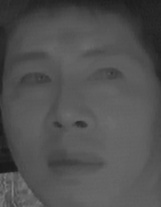eye: (15, 68, 54, 92), (84, 66, 126, 88)
mouth: (43, 142, 106, 182)
